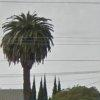Tree: (7, 7, 60, 84)
